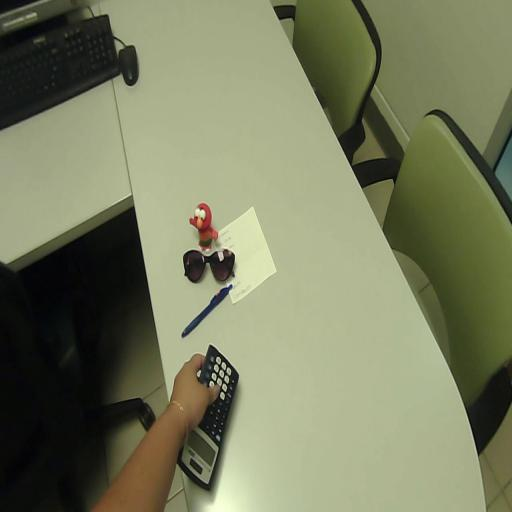pen: (182, 285, 232, 337)
